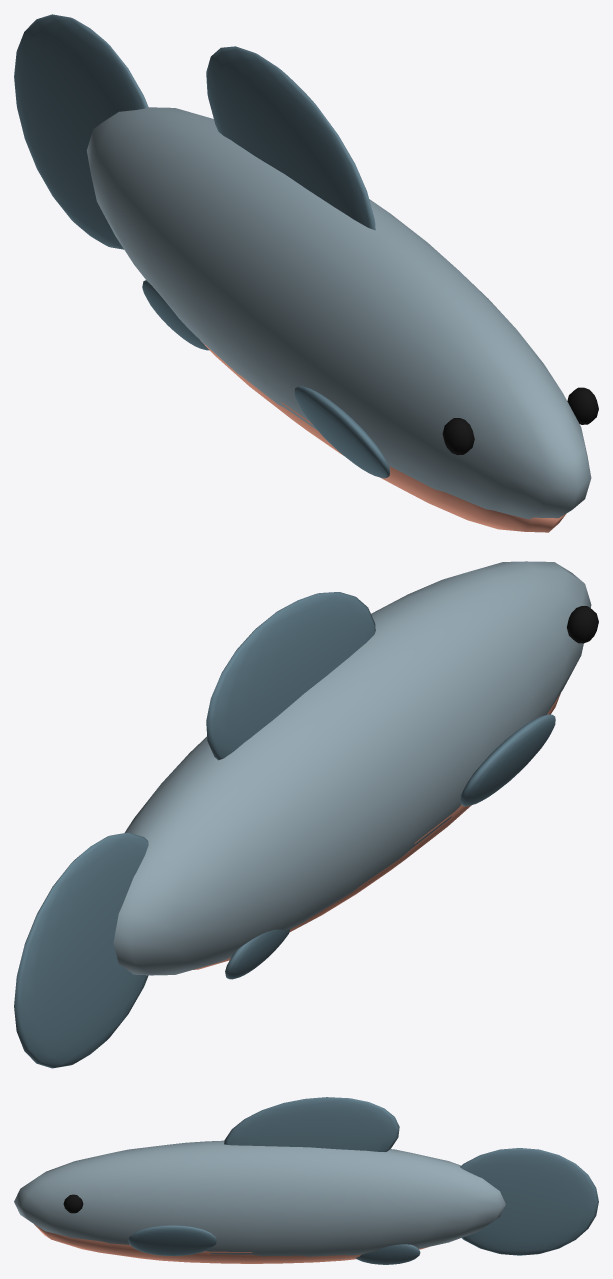
File: salmon.glb
3 renders of one model, top to bottom at view 1: azimuth 30°, elevation 25°; view 2: azimuth 150°, elevation 25°; view 3: azimuth 270°, elevation 25°, orthographic. The views are drawn at different scales.
Parts seen in each view (by area): view 1: salmon; view 2: salmon; view 3: salmon.
Boxes of the visible parts, bbox=[...] form: salmon: bbox=[14, 14, 598, 532]; salmon: bbox=[14, 561, 598, 1068]; salmon: bbox=[14, 1097, 598, 1264].
Bounding box in the file's own units: 0.3277 × 0.4718 × 1.53.
